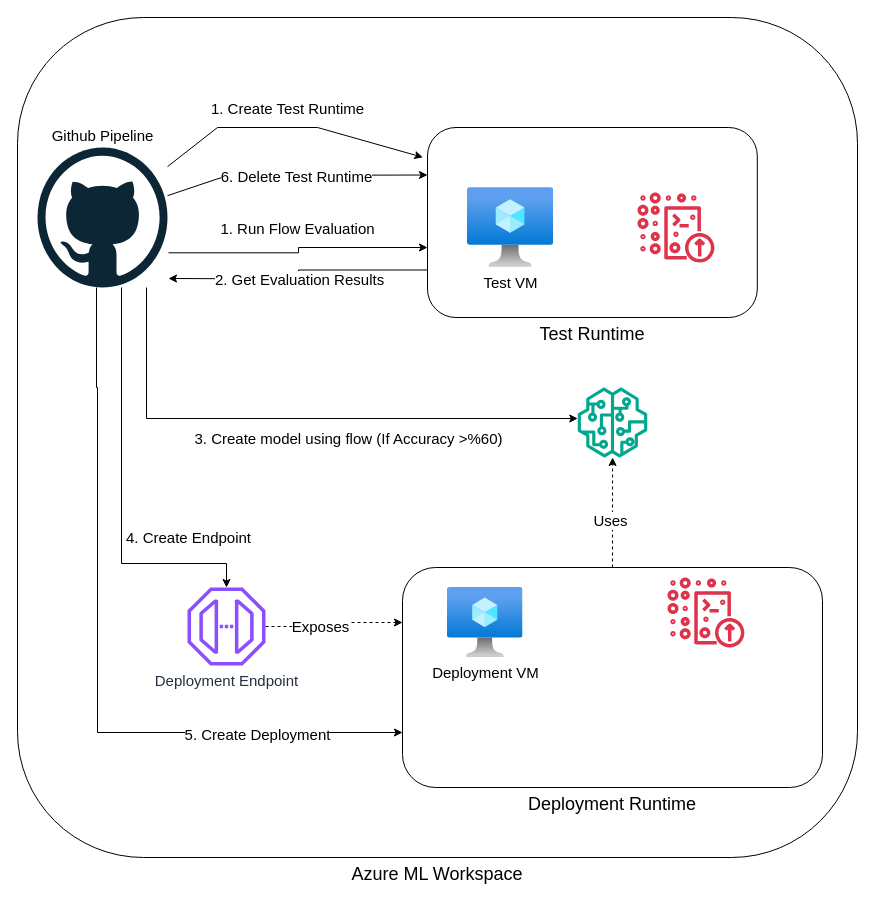
Image size: 875x904. Some labels were removed from this diagram. Here are the shapes that lost their labels. From the top down, the centre of each, then its label:
At point (675, 227): "Test VM Environment".
At point (612, 422): "Model".
At point (705, 612): "Deployment VM Environment".
